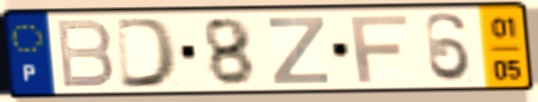6: (423, 11, 473, 86)
8: (201, 15, 258, 88)
B: (53, 17, 117, 91)
D: (112, 16, 182, 90)
F: (347, 13, 411, 85)
Z: (265, 14, 331, 86)
